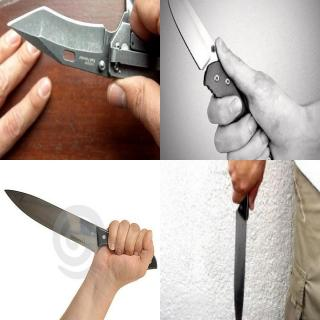knife: (164, 0, 270, 145), (2, 184, 158, 274), (3, 1, 159, 89), (228, 170, 257, 320)
